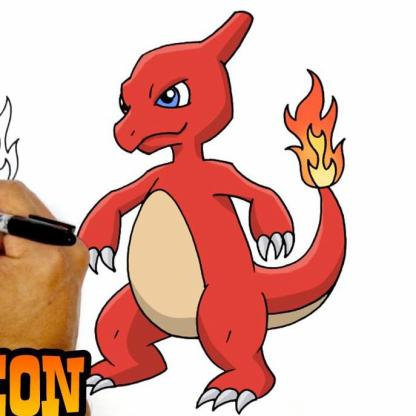Charmeleon: (1, 11, 416, 416)
